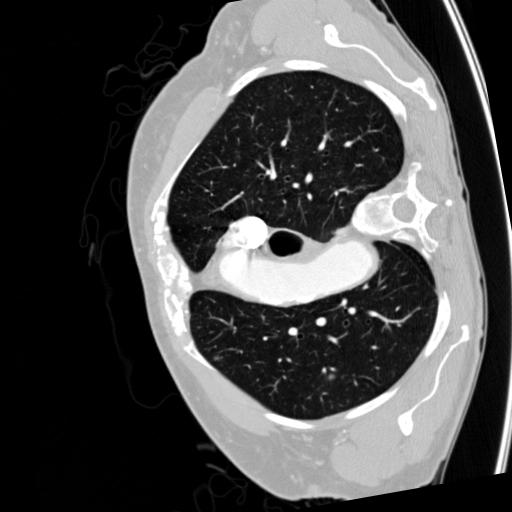nodule: (323, 368, 337, 382)
